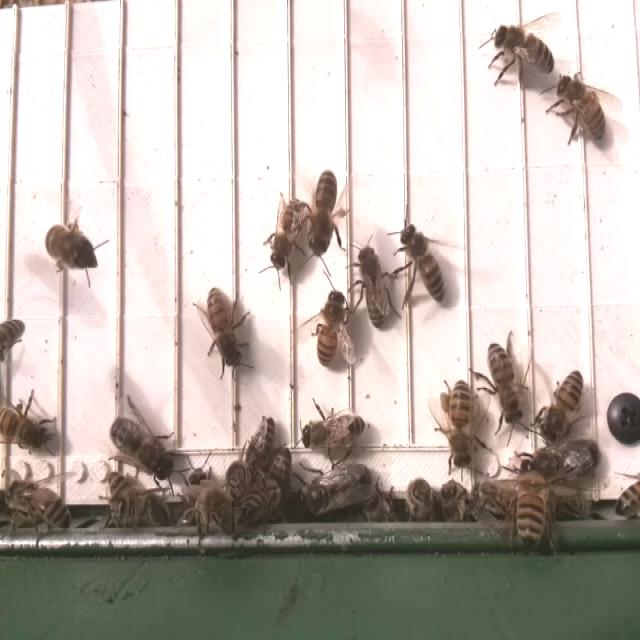Drone: (290, 459, 375, 522), (108, 411, 178, 482), (517, 436, 605, 490)
Worker: (204, 281, 246, 377), (554, 74, 609, 147), (489, 20, 556, 79), (400, 222, 447, 306), (538, 365, 586, 447), (305, 169, 341, 263), (301, 409, 373, 455), (486, 339, 522, 428), (315, 285, 350, 373), (354, 244, 389, 329), (270, 194, 306, 275), (445, 378, 476, 471), (0, 406, 50, 455)
